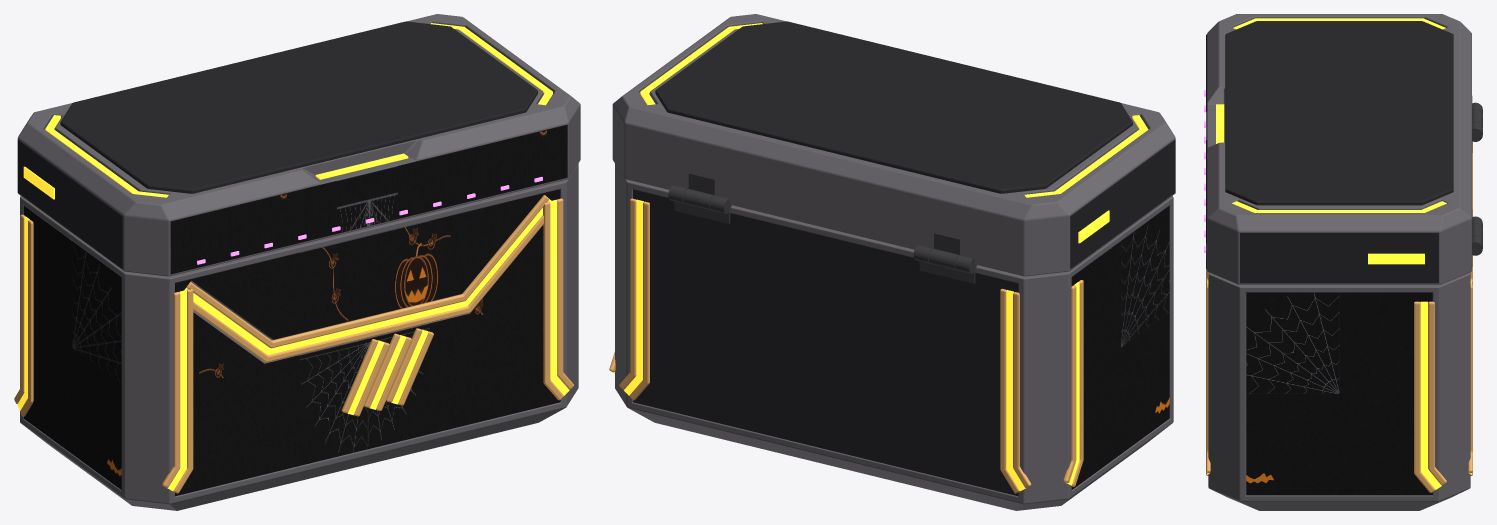
File: halloween.glb
3 renders of one model, left to right at view 1: azimuth 30°, elevation 25°; view 2: azimuth 150°, elevation 25°; view 3: azimuth 270°, elevation 25°, orthographic. The views are drawn at different scales.
Visible parts, largest first — view 1: PlateFB, LidTopPanel, BodyCore, LidFrontPlate, LidBand, PlateSide, LidSidePlate, Rail_5, Rail_4, LedPath_3, Rail_16, LedPath_15 (+9 smaller); view 2: PlateFB.001, LidTopPanel, LidBand, BodyCore, PlateSide, LidSidePlate, Rail_10, Rail_20, LedPath_9, LedPath_18, Rail_11, Rail_19 (+5 smaller); view 3: LidTopPanel, PlateSide.001, BodyCore, LidBand, LidSidePlate.001, LedPath_21, Rail_22, Rail_23, LedPath_36, LedPath_39, LedPath_35, Rail_17 (+2 smaller).
Boxes of the visible parts, bbox=[...] form: PlateFB: bbox=[175, 189, 560, 496]; LidTopPanel: bbox=[60, 21, 537, 193]; BodyCore: bbox=[20, 163, 578, 510]; LidFrontPlate: bbox=[170, 125, 567, 274]; LidBand: bbox=[17, 14, 580, 276]; PlateSide: bbox=[23, 206, 121, 489]; LidSidePlate: bbox=[17, 139, 122, 268]; Rail_5: bbox=[186, 195, 548, 348]; Rail_4: bbox=[193, 215, 543, 362]; LedPath_3: bbox=[184, 199, 550, 354]; Rail_16: bbox=[543, 201, 563, 400]; LedPath_15: bbox=[549, 199, 569, 395]; PlateFB.001: bbox=[633, 189, 1018, 496]; LidTopPanel: bbox=[655, 21, 1132, 193]; LidBand: bbox=[612, 14, 1175, 276]; BodyCore: bbox=[615, 164, 1173, 510]; PlateSide: bbox=[1071, 205, 1169, 489]; LidSidePlate: bbox=[1070, 139, 1175, 268]; Rail_10: bbox=[1000, 288, 1019, 493]; Rail_20: bbox=[629, 201, 649, 400]; LedPath_9: bbox=[1006, 290, 1025, 491]; LedPath_18: bbox=[624, 199, 643, 395]; Rail_11: bbox=[1013, 292, 1031, 487]; Rail_19: bbox=[619, 198, 636, 389]; LidTopPanel: bbox=[1225, 21, 1453, 205]; PlateSide.001: bbox=[1246, 292, 1432, 495]; BodyCore: bbox=[1208, 272, 1470, 510]; LidBand: bbox=[1207, 14, 1471, 284]; LidSidePlate.001: bbox=[1240, 232, 1438, 283]; LedPath_21: bbox=[1420, 301, 1441, 489]; Rail_22: bbox=[1414, 301, 1435, 493]; Rail_23: bbox=[1428, 301, 1446, 485]; LedPath_36: bbox=[1232, 201, 1446, 212]; LedPath_39: bbox=[1368, 253, 1424, 264]; LedPath_35: bbox=[1233, 18, 1445, 29]; Rail_17: bbox=[1206, 284, 1210, 473].
Bounding box in the file's own units: 1.78 × 1.17 × 0.978.
11 materials, 3 textured.
